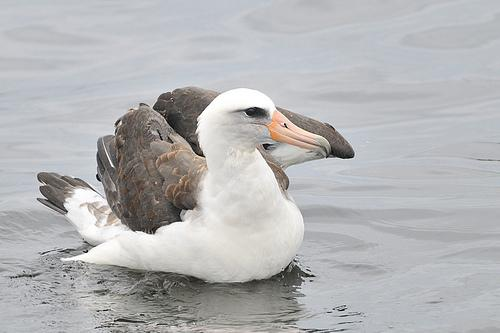002.Laysan_Albatross: (38, 86, 358, 287)
